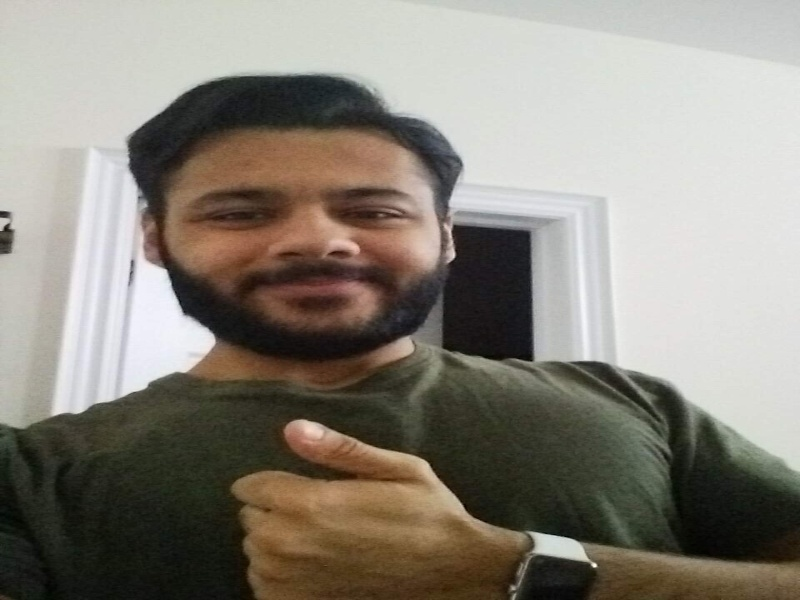smile: (166, 130, 445, 349)
thumbup: (231, 419, 475, 600)
